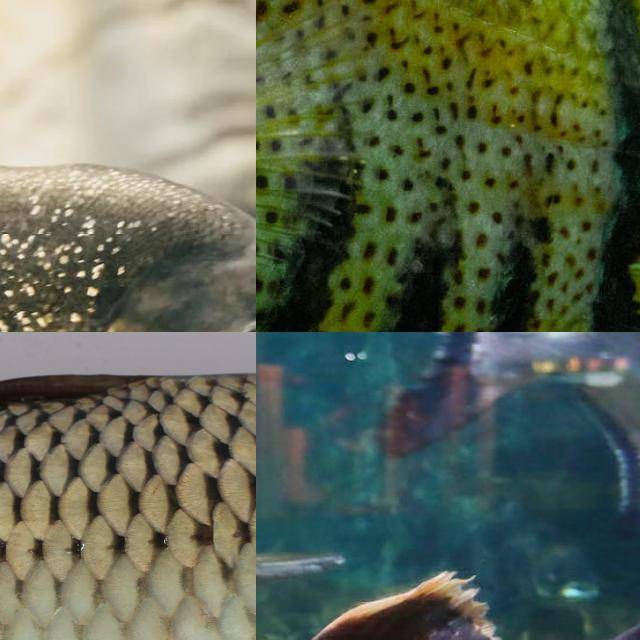fish: (256, 0, 640, 332), (0, 0, 256, 332), (0, 367, 256, 640)
